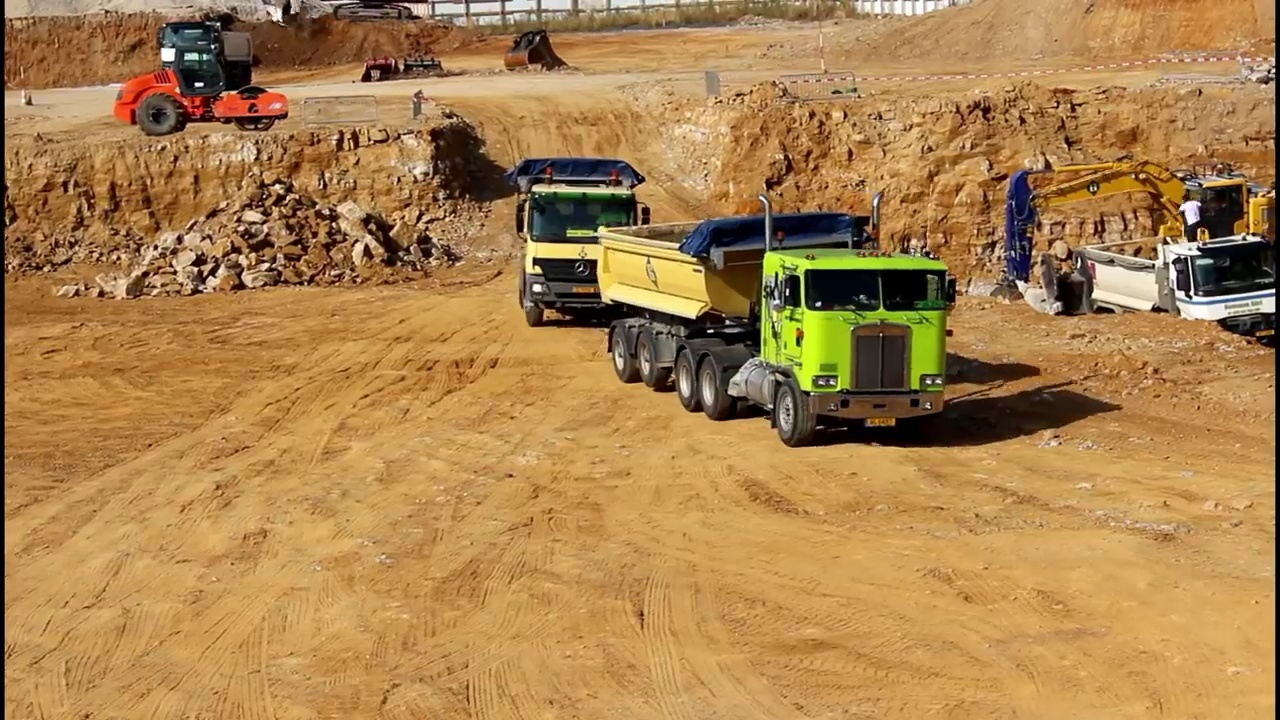compactor: (113, 45, 291, 137)
excavator: (982, 154, 1280, 309)
truck: (589, 190, 958, 448), (506, 152, 660, 333), (1069, 227, 1280, 356), (157, 16, 262, 100)
worker: (1175, 185, 1210, 247)
